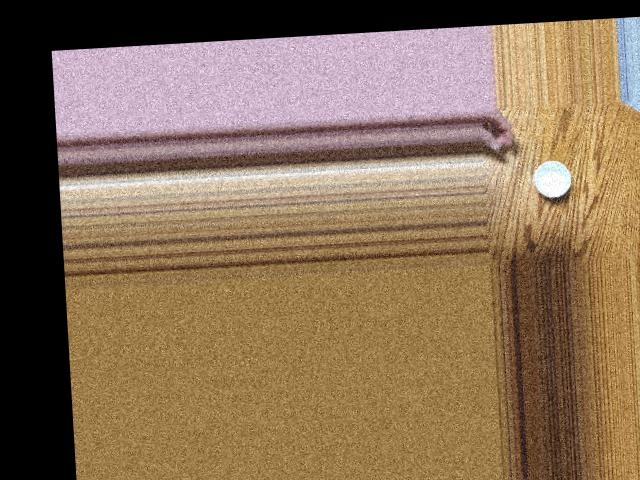cotage: (526, 155, 575, 199)
